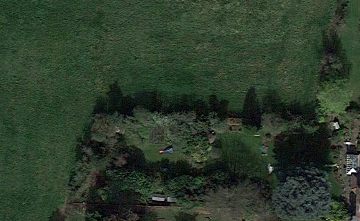tree: (307, 78, 360, 116)
